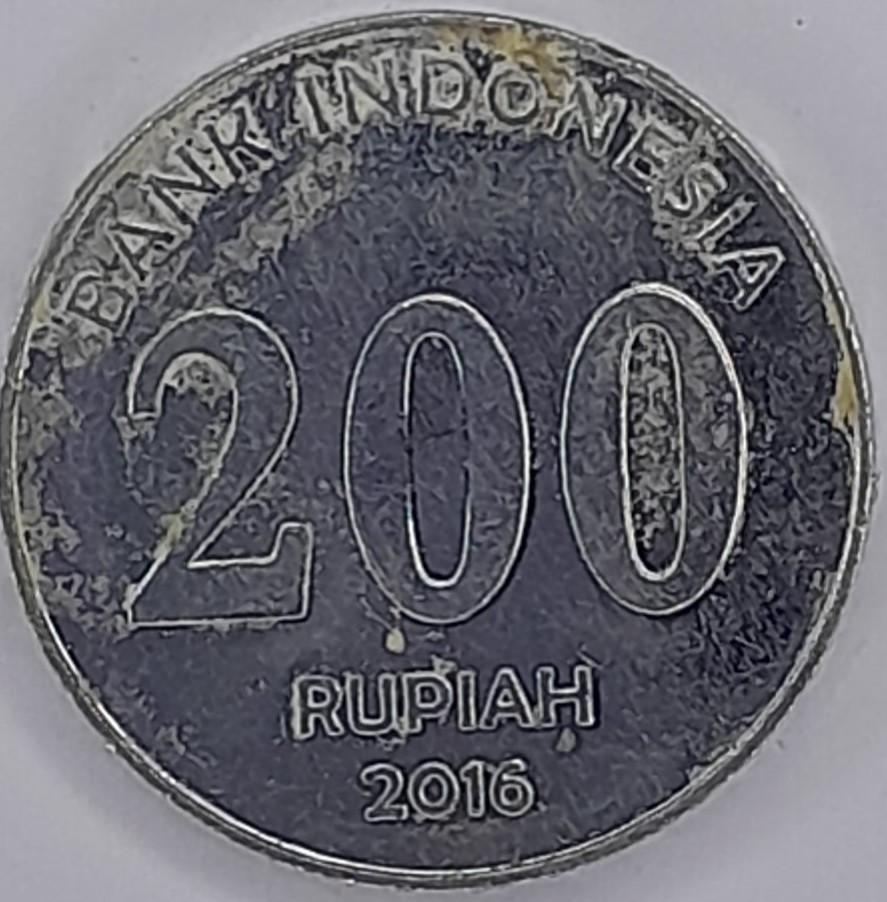coin_200_e2016: (0, 16, 887, 902)
